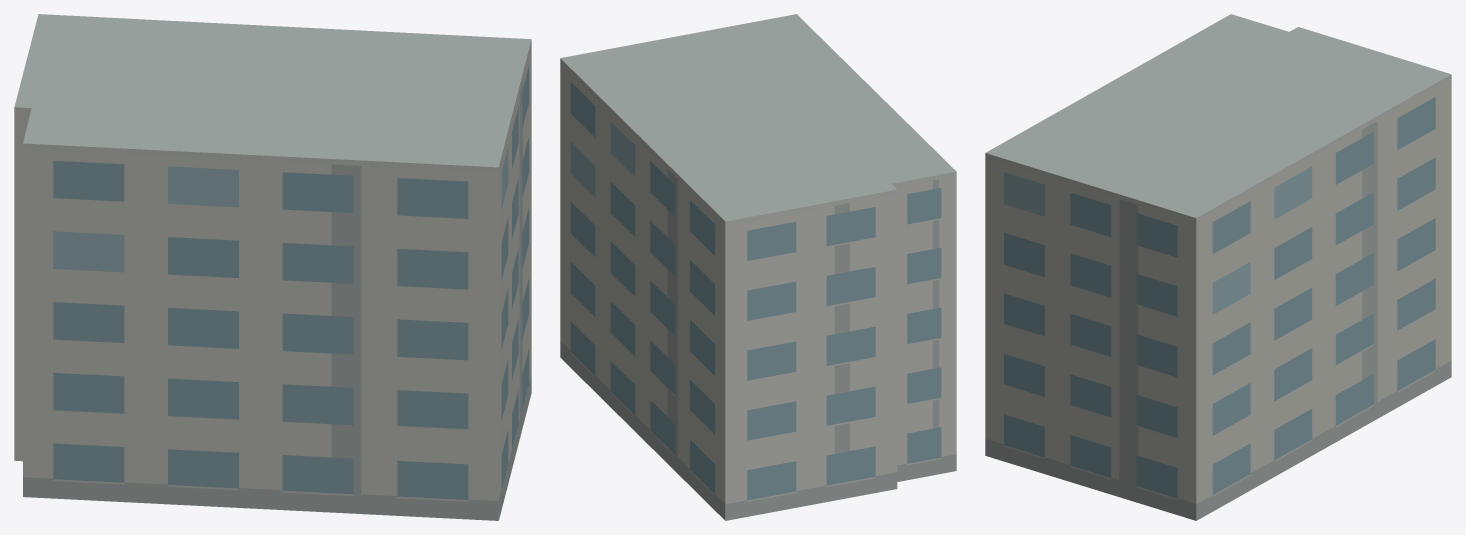
File: survey-upis-32696476.glb
3 renders of one model, left to right at view 1: azimuth 30°, elevation 25°; view 2: azimuth 150°, elevation 25°; view 3: azimuth 270°, elevation 25°, orthographic. The views are drawn at different scales.
Parts seen in each view (by area): view 1: survey-upis-32696476.tmp; view 2: survey-upis-32696476.tmp; view 3: survey-upis-32696476.tmp.
Part boxes in pixels (left/top/right/bottom): survey-upis-32696476.tmp: left=14, top=14, right=531, bottom=520; survey-upis-32696476.tmp: left=560, top=14, right=956, bottom=520; survey-upis-32696476.tmp: left=985, top=14, right=1451, bottom=520.
Size of the model in its own units: 22.56 by 15.6 by 21.78.
